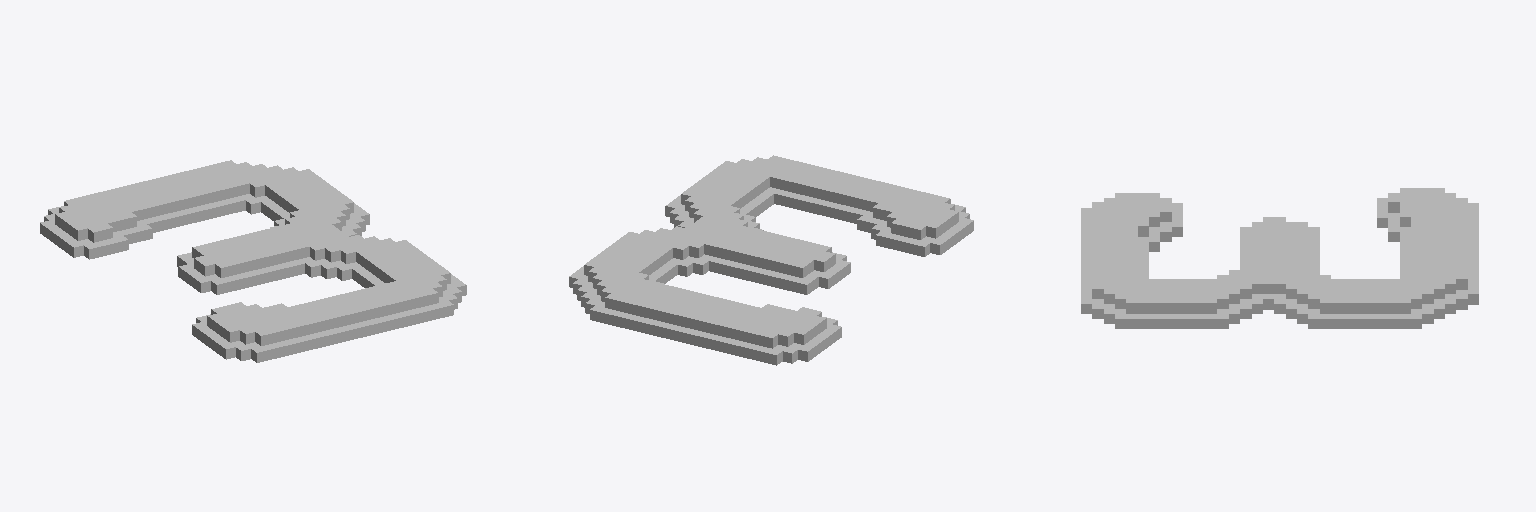
The model's file is three.obj.
The picture shows the model from 3 angles: view 1: azimuth 30°, elevation 25°; view 2: azimuth 150°, elevation 25°; view 3: azimuth 270°, elevation 25°; orthographic projection.
Parts seen in each view (by area): view 1: object 1; view 2: object 1; view 3: object 1.
Boxes of the visible parts, x1,y1,x2,y2 form: object 1: [40, 160, 466, 362]; object 1: [569, 155, 973, 365]; object 1: [1081, 188, 1478, 328].
Size of the model in its own units: 2.6 by 0.2 by 3.5.